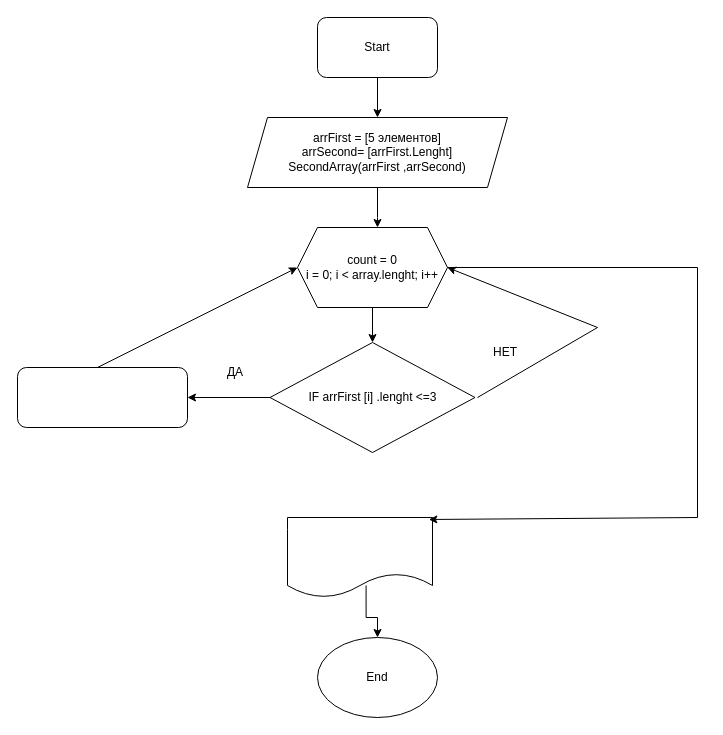
The diagram is 723 pixels wide and 735 high, and some of its shapes have lost their labels. The shapes that lost their labels are listed below. From the top down, each one's centre as x and y in pixels, then its label:
[102,397]: arr.Second[count] = arrFirst [i] count++
[359,557]: PrintArray (arrFirst ) PrintArray (arrSecond)
